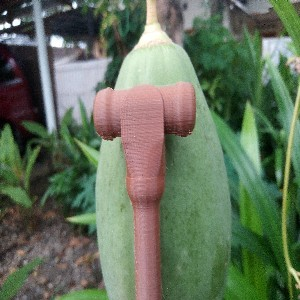palu: (93, 80, 195, 300)
